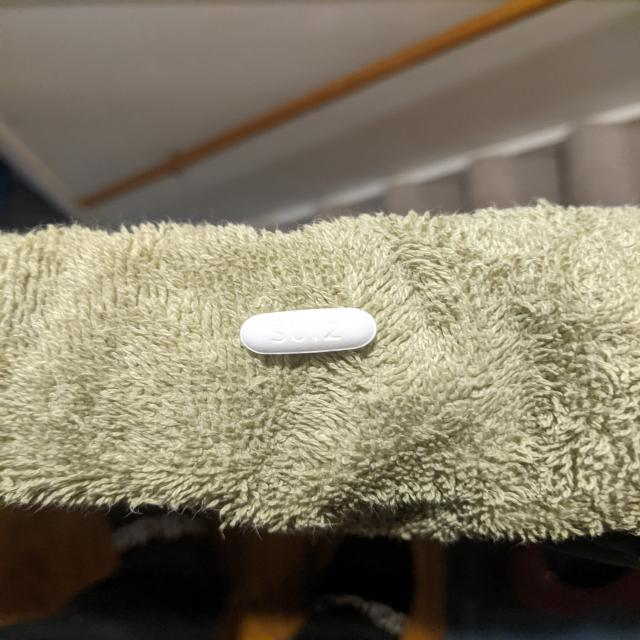non-organic waste: (239, 307, 378, 356)
